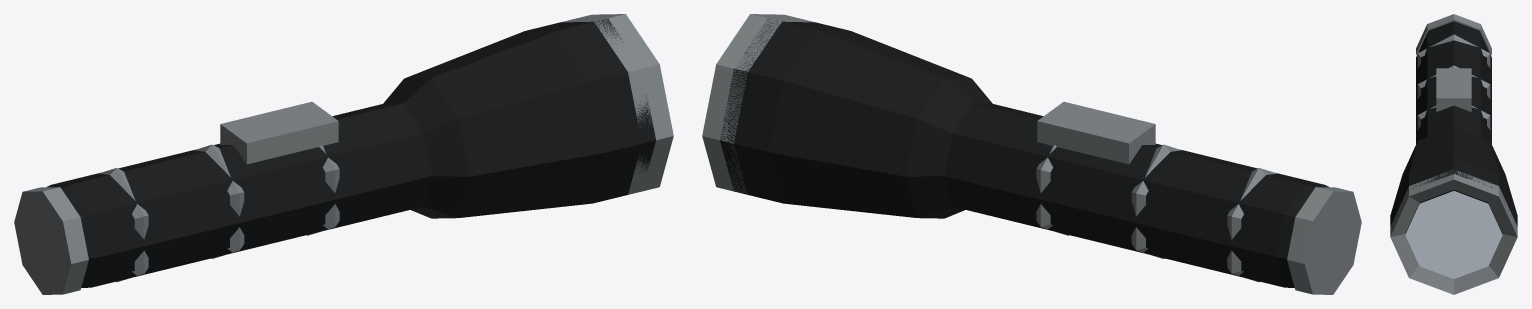
The model's file is flashlight.glb.
3 views of the same model, side by side, from view 1: azimuth 30°, elevation 25°; view 2: azimuth 150°, elevation 25°; view 3: azimuth 270°, elevation 25° (orthographic). The views are drawn at different scales.
Parts seen in each view (by area): view 1: Cuerpo, Tapón, Aro frontal, Interruptor, Anillo agarre.001, Anillo agarre, Anillo agarre.002; view 2: Cuerpo, Tapón, Aro frontal, Interruptor, Anillo agarre.001, Anillo agarre, Anillo agarre.002; view 3: Cuerpo, Lente, Aro frontal, Interruptor, Tapón, Anillo agarre, Anillo agarre.001, Anillo agarre.002.
Boxes of the visible parts, <box> form: Cuerpo: <box>46,18,655,287</box>; Tapón: <box>14,187,88,294</box>; Aro frontal: <box>561,14,673,194</box>; Interruptor: <box>220,101,338,164</box>; Anillo agarre.001: <box>194,144,244,258</box>; Anillo agarre: <box>99,168,148,282</box>; Anillo agarre.002: <box>307,145,339,235</box>; Cuerpo: <box>720,19,1329,287</box>; Tapón: <box>1287,187,1361,294</box>; Aro frontal: <box>702,14,814,194</box>; Interruptor: <box>1037,101,1155,164</box>; Anillo agarre.001: <box>1131,144,1181,258</box>; Anillo agarre: <box>1227,168,1276,282</box>; Anillo agarre.002: <box>1036,145,1068,235</box>; Cuerpo: <box>1390,21,1517,233</box>; Lente: <box>1405,191,1502,278</box>; Aro frontal: <box>1390,169,1517,294</box>; Interruptor: <box>1436,68,1471,111</box>; Tapón: <box>1416,14,1491,55</box>; Anillo agarre: <box>1417,34,1490,68</box>; Anillo agarre.001: <box>1417,65,1490,99</box>; Anillo agarre.002: <box>1417,106,1490,130</box>.
Size of the model in its own units: 0.165 by 0.047 by 0.047.
